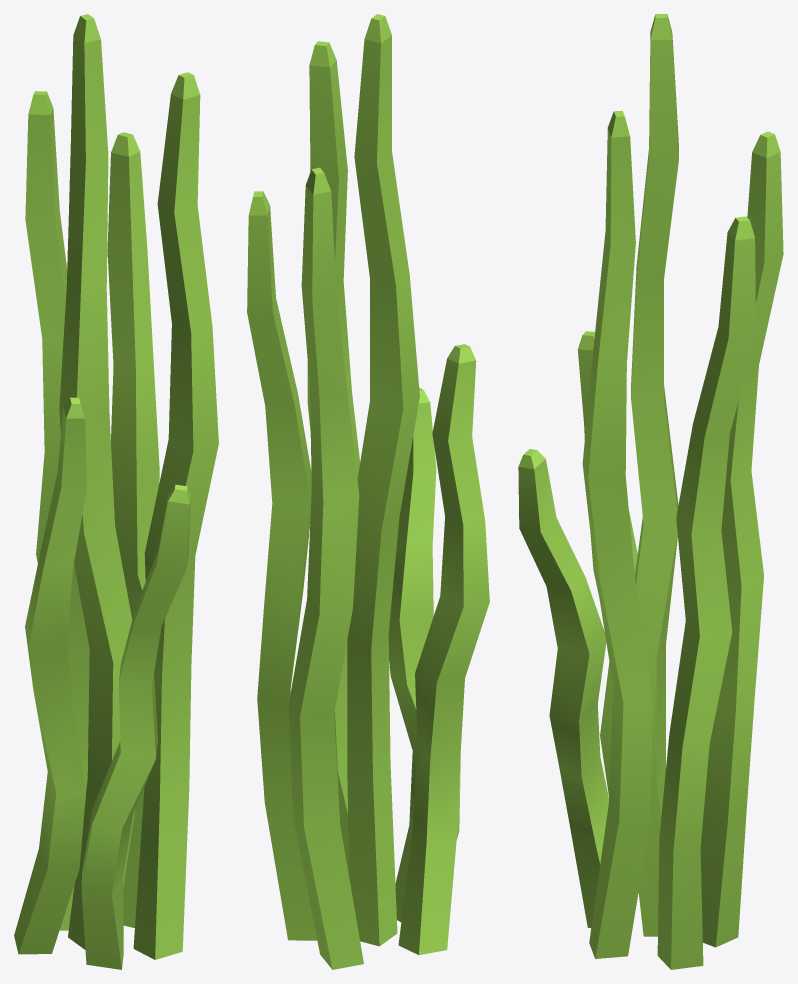
File: seaweed1Coloured.gltf
The picture shows the model from 3 angles, left to right: view 1: azimuth 30°, elevation 25°; view 2: azimuth 150°, elevation 25°; view 3: azimuth 270°, elevation 25°; orthographic projection.
Bounding box in the file's own units: 1.27 × 5.84 × 1.53.
